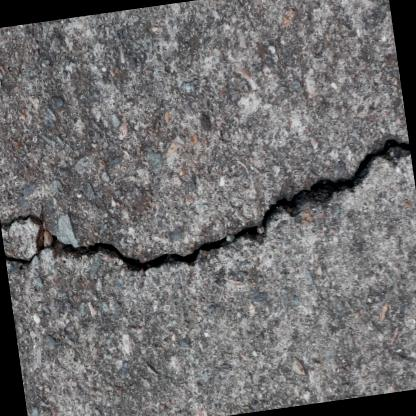crack: (0, 138, 411, 272)
